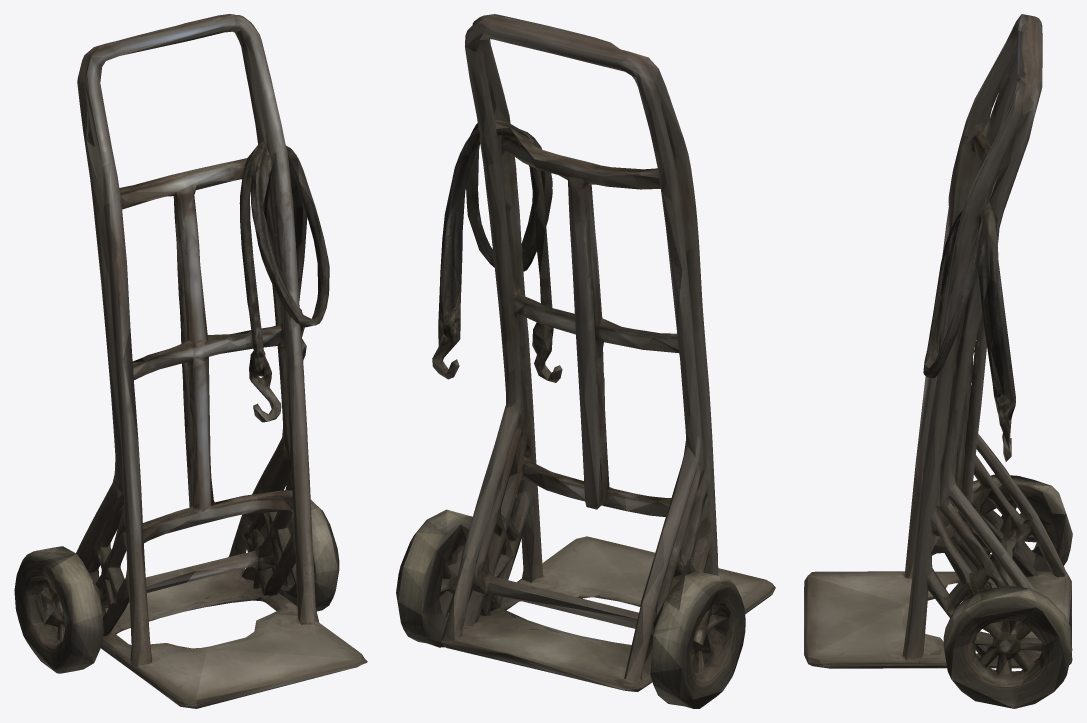
Rendered from Hand Truck.fbx.
3 views of the same model, side by side, from view 1: azimuth 30°, elevation 25°; view 2: azimuth 150°, elevation 25°; view 3: azimuth 270°, elevation 25° (orthographic). The views are drawn at different scales.
Parts seen in each view (by area): view 1: node_0; view 2: node_0; view 3: node_0.
Boxes of the visible parts, x1=… form: node_0: x1=14, y1=14, x2=367, y2=708; node_0: x1=396, y1=14, x2=775, y2=708; node_0: x1=804, y1=14, x2=1072, y2=708.
Bounding box in the file's own units: 0.5038 × 1.07 × 0.4349.
Materials: 1 (1 with a texture image).
